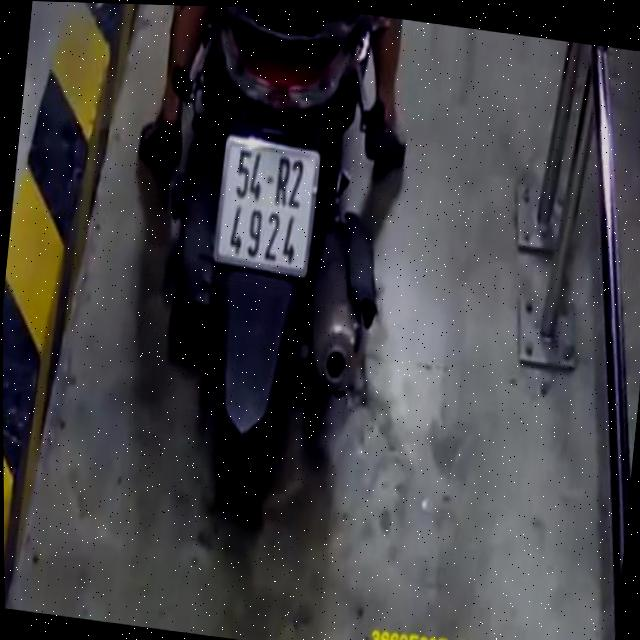motorcycle: (126, 4, 422, 528)
plate: (199, 126, 334, 283)
